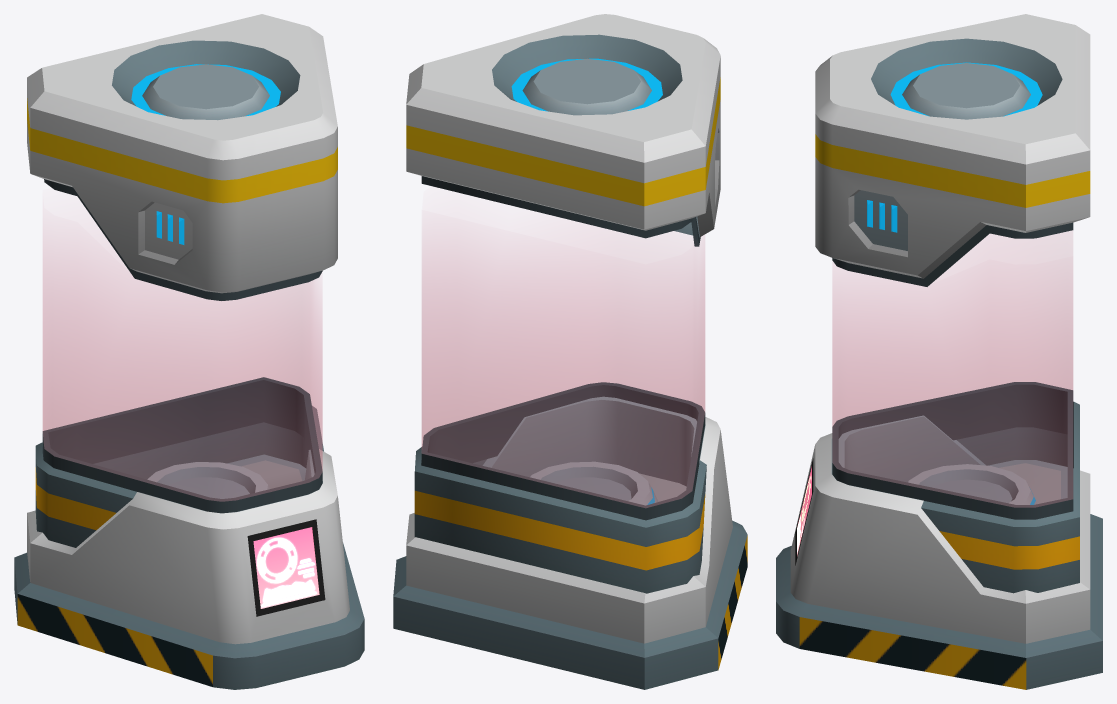
3 renders of one model, left to right at view 1: azimuth 30°, elevation 25°; view 2: azimuth 150°, elevation 25°; view 3: azimuth 270°, elevation 25°, orthographic.
Visible parts, largest first — view 1: Сapsule_005; view 2: Сapsule_005; view 3: Сapsule_005.
Part boxes in pixels (bbox=[...]): Сapsule_005: bbox=[14, 14, 364, 689]; Сapsule_005: bbox=[393, 14, 747, 689]; Сapsule_005: bbox=[776, 14, 1102, 689].
Bounding box in the file's own units: 1.64 × 2.6 × 1.45.
Materials: 5 (4 with a texture image).
